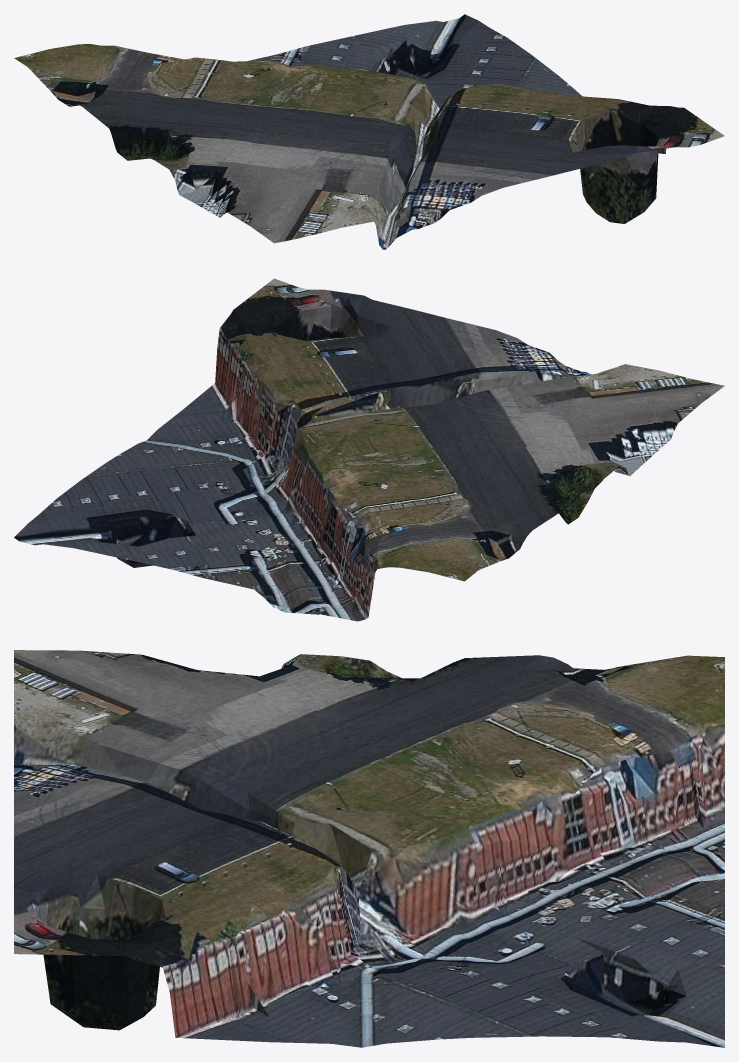
File: map_15_8181_13782.dae
3 renders of one model, top to bottom at view 1: azimuth 30°, elevation 25°; view 2: azimuth 150°, elevation 25°; view 3: azimuth 270°, elevation 25°, orthographic. The views are drawn at different scales.
Parts seen in each view (by area): view 1: Ter0; view 2: Ter0; view 3: Ter0.
Part boxes in pixels (bbox=[...]): Ter0: bbox=[14, 14, 724, 249]; Ter0: bbox=[14, 278, 724, 621]; Ter0: bbox=[14, 650, 724, 1047].
Size of the model in its own units: 63.87 by 63.88 by 13.57.
3 materials, 3 textured.
